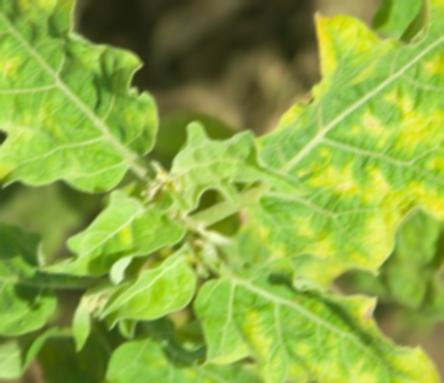Tomato leaf mosaic virus: (233, 0, 444, 271), (0, 0, 151, 216), (182, 259, 444, 383), (48, 184, 178, 289), (163, 131, 309, 211)
